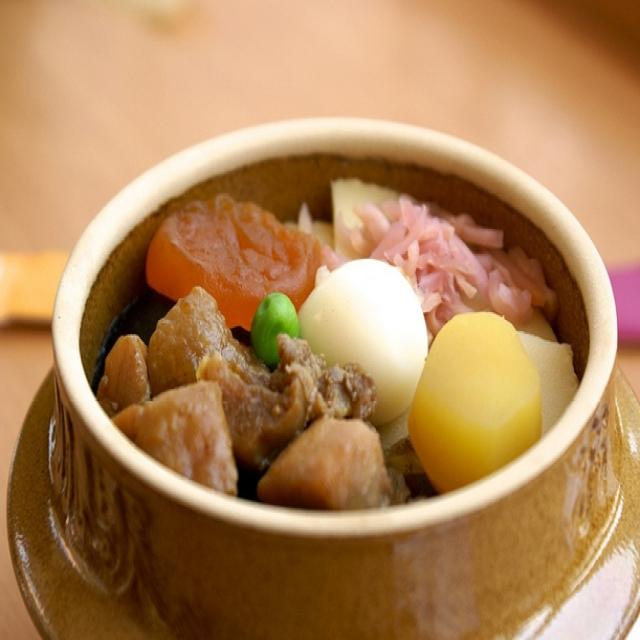熟制海鲜: (248, 229, 464, 363)
